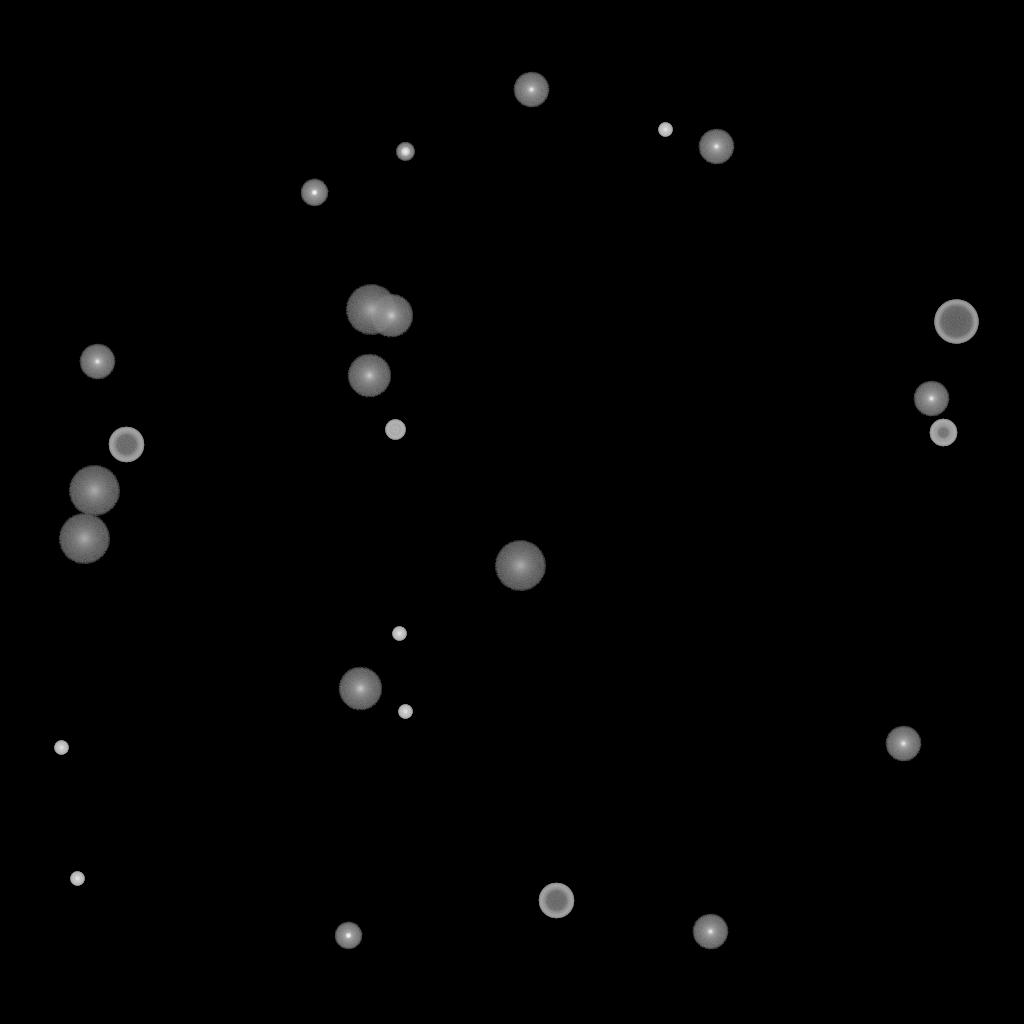depth:-10: (334, 922, 362, 950), (300, 179, 328, 207)
depth:-20: (396, 143, 414, 161)
depth:-30: (392, 627, 406, 641), (398, 705, 412, 719), (70, 872, 84, 886), (54, 741, 68, 755), (658, 123, 672, 137)
depth:-40: (385, 420, 405, 440)
depth:-50: (929, 419, 957, 447)
depth:-60: (538, 883, 574, 919), (108, 427, 144, 463)
depth:-70: (934, 300, 978, 344)
depth:0: (513, 72, 549, 108), (885, 726, 921, 762), (79, 344, 115, 380), (913, 381, 949, 417), (698, 129, 734, 165), (692, 914, 728, 950)
depth:10: (338, 667, 382, 711), (369, 294, 413, 338), (347, 354, 391, 398)
depth:20: (494, 541, 546, 591), (58, 514, 110, 564), (345, 285, 397, 335), (68, 466, 120, 516)
